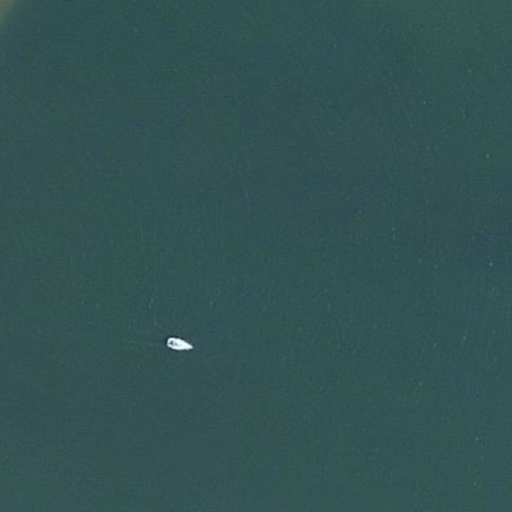ship: (164, 334, 195, 355)
